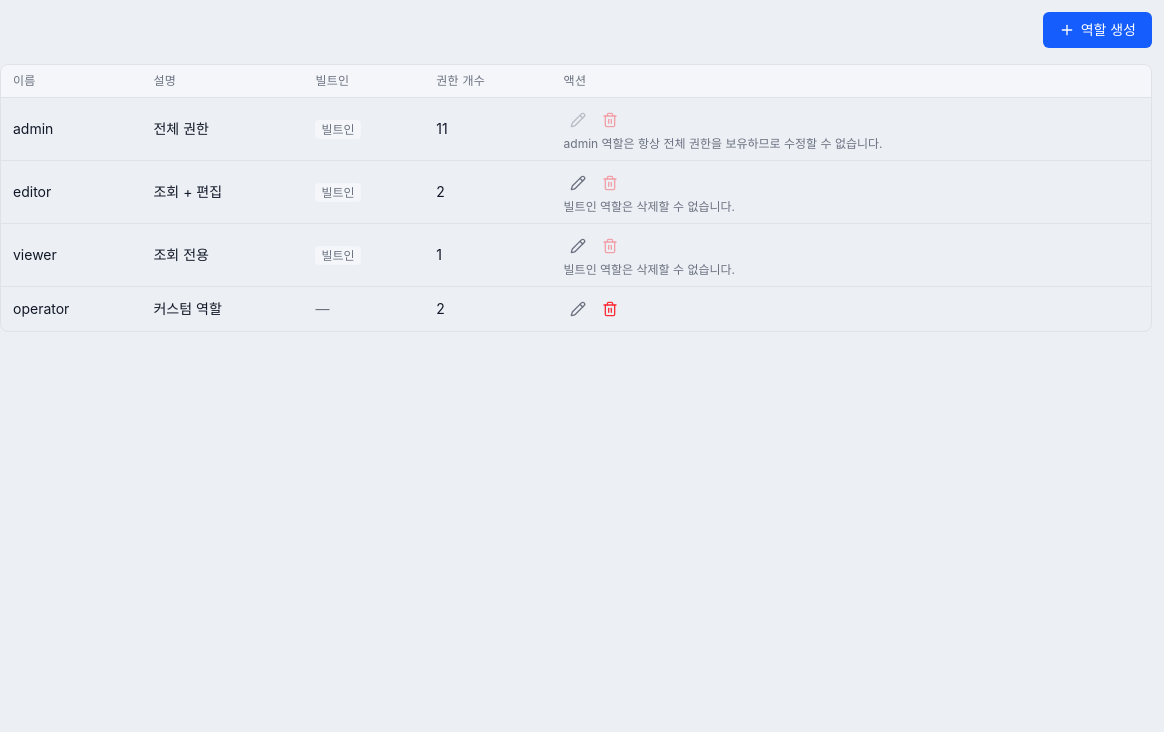
Scenario: RolesPanel 권한 행렬 (AC-04) › 카탈로그를 불러오는 동안 로딩 표시를 보여준다
Expected: the row with test id "admin-role-row-operator" is shown, [1, 286, 1151, 331]
Click the button "역할 생성": click(1097, 30) [1043, 12, 1152, 48]
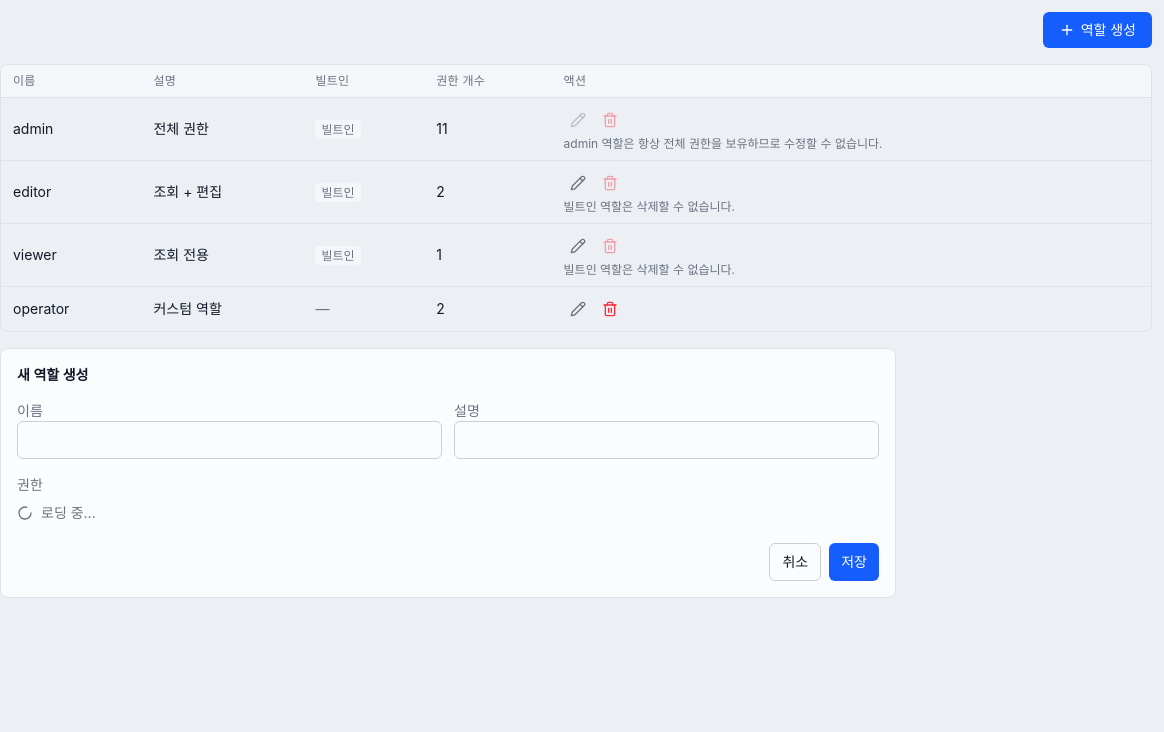
Expected: the text "로딩 중..." is shown, [17, 503, 96, 523]
